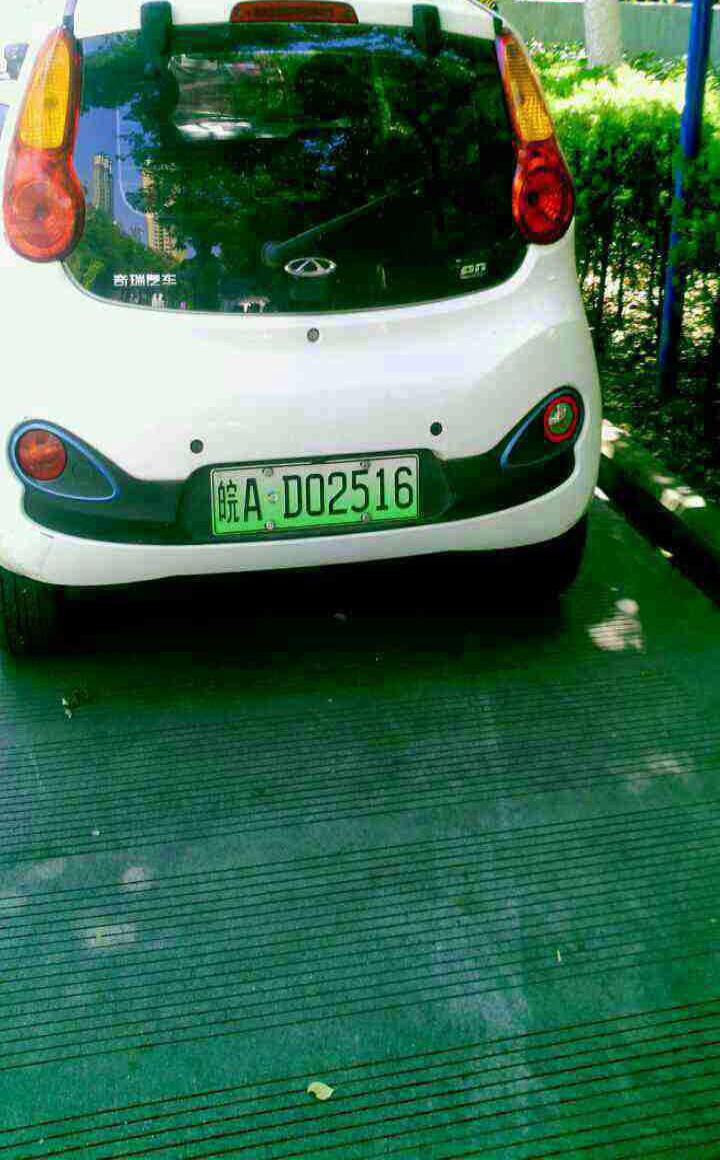car_id: (218, 455, 417, 534)
